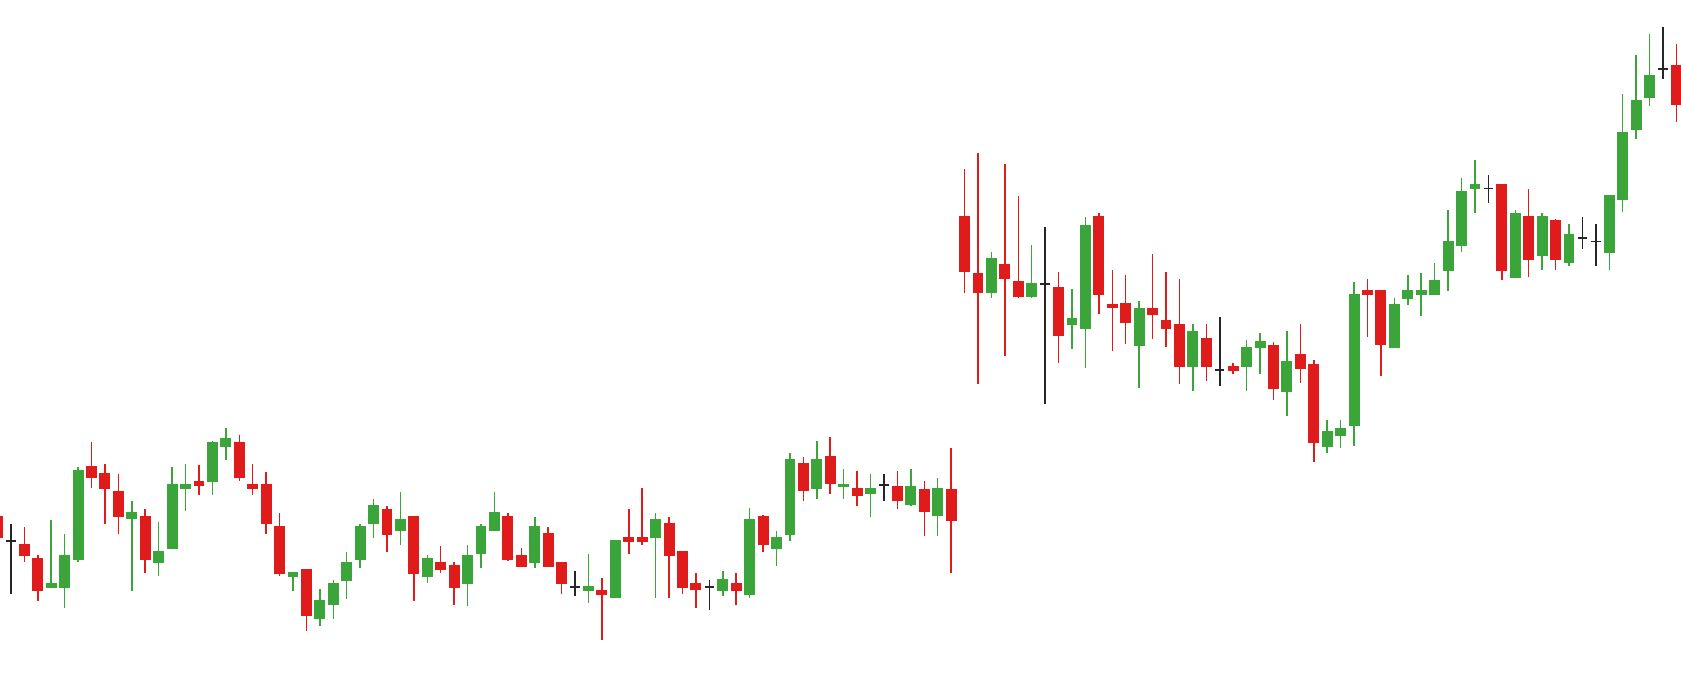sell: (392, 489, 518, 575)
